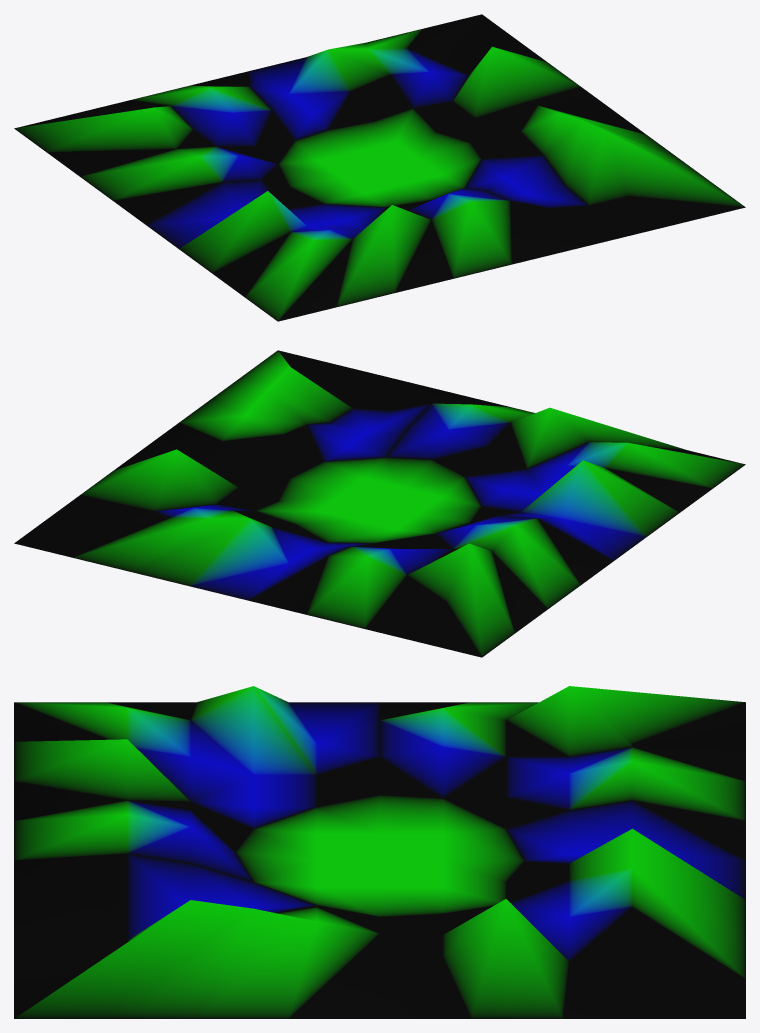
Rendered from SM_MountainPlane.fbx.
3 renders of one model, top to bottom at view 1: azimuth 30°, elevation 25°; view 2: azimuth 150°, elevation 25°; view 3: azimuth 270°, elevation 25°, orthographic. The views are drawn at different scales.
Visible parts, largest first — view 1: SM_WaterPlane; view 2: SM_WaterPlane; view 3: SM_WaterPlane.
Boxes of the visible parts, x1=… form: SM_WaterPlane: x1=14, y1=14, x2=745, y2=321; SM_WaterPlane: x1=14, y1=350, x2=745, y2=657; SM_WaterPlane: x1=14, y1=686, x2=745, y2=1018.
Bounding box in the file's own units: 1484 × 151 × 1450.
